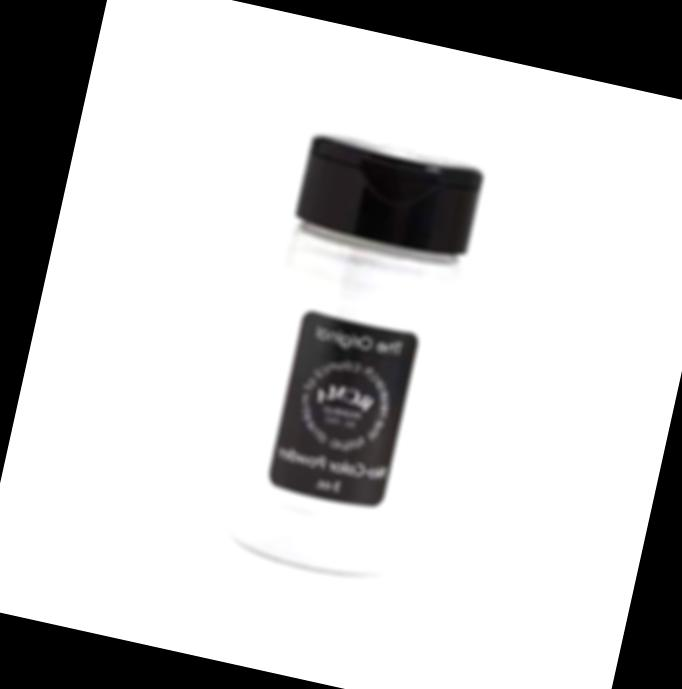cosmetic: (213, 129, 492, 583)
